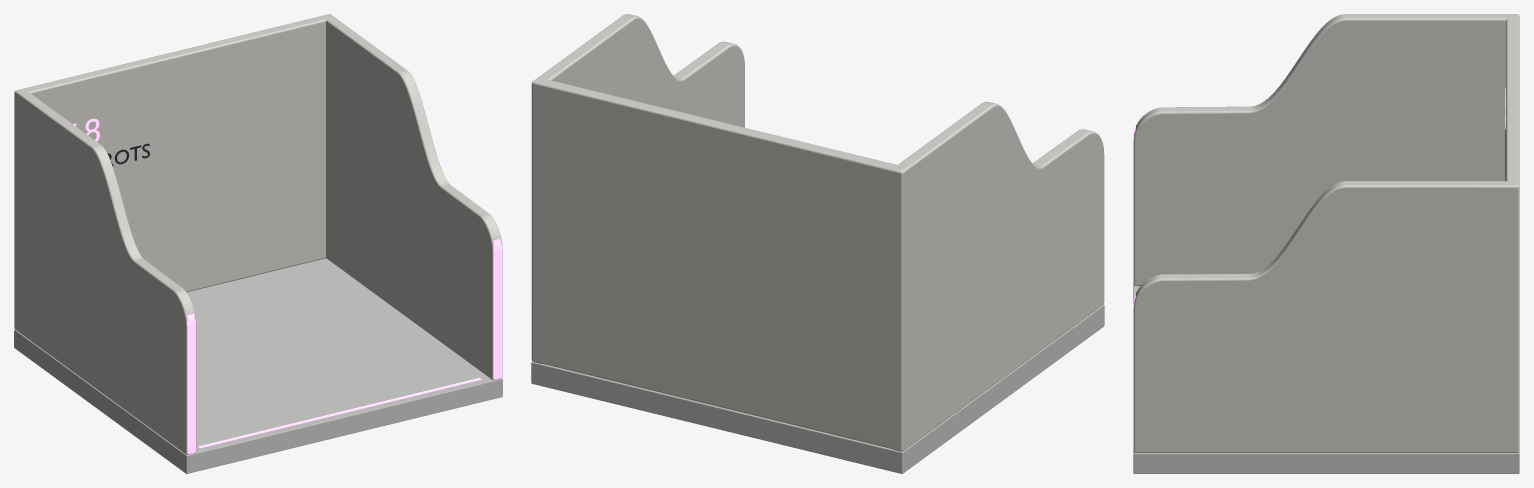
File: Room_18_carrots.glb
3 renders of one model, left to right at view 1: azimuth 30°, elevation 25°; view 2: azimuth 150°, elevation 25°; view 3: azimuth 270°, elevation 25°, orthographic. The views are drawn at different scales.
Visible parts, largest first — view 1: Walls, Floor, Accent; view 2: Walls, Floor; view 3: Walls, Floor.
Boxes of the visible parts, bbox=[...] form: Walls: bbox=[14, 14, 502, 454]; Floor: bbox=[14, 258, 502, 473]; Accent: bbox=[198, 378, 481, 448]; Walls: bbox=[531, 14, 1104, 451]; Floor: bbox=[531, 304, 1104, 473]; Walls: bbox=[1133, 14, 1519, 452]; Floor: bbox=[1133, 284, 1519, 473].
Bounding box in the file's own units: 3.6 × 2.8 × 3.4.
